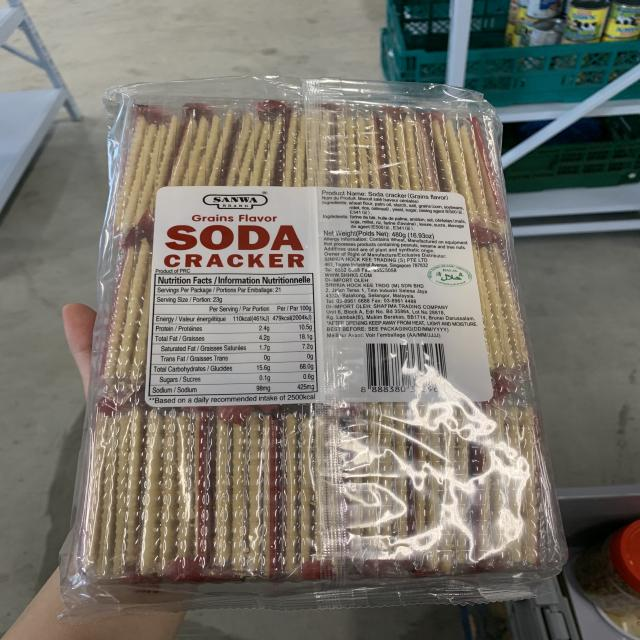object_name: (113, 88, 539, 591)
